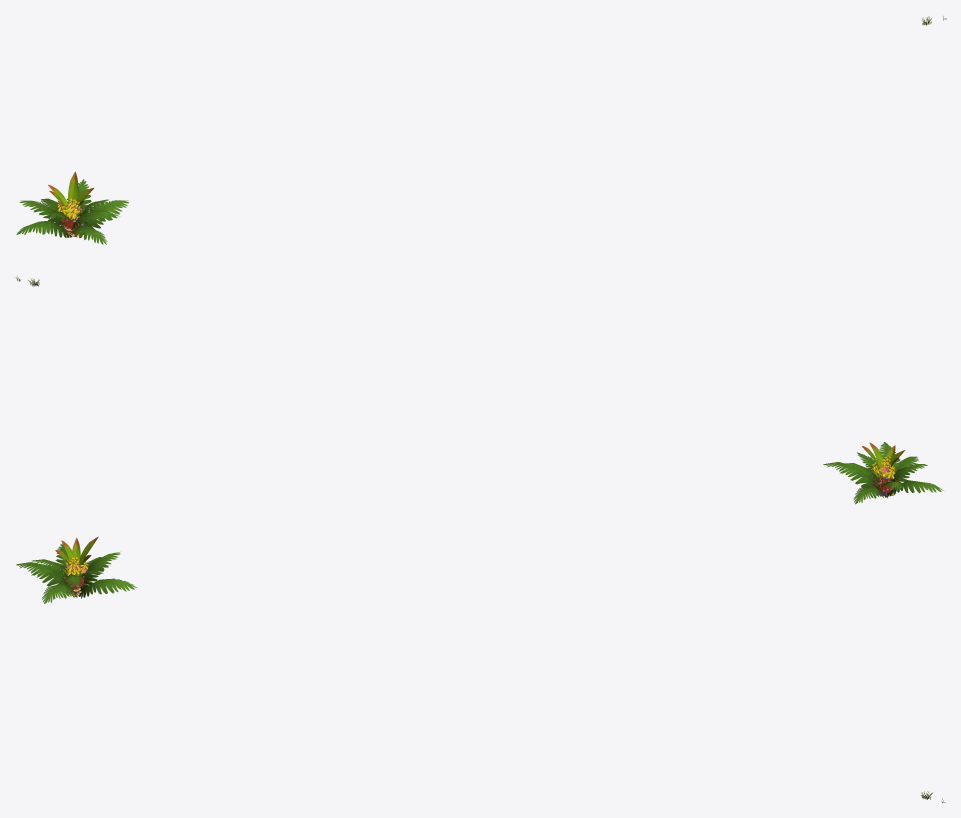
Rendered from plants_lod.glb.
3 renders of one model, top to bottom at view 1: azimuth 30°, elevation 25°; view 2: azimuth 150°, elevation 25°; view 3: azimuth 330°, elevation 25°, orthographic.
Parts seen in each view (by area): view 1: Fern_1, Plant_1_Big; view 2: Fern_1; view 3: Fern_1, Plant_1_Big.
Boxes of the visible parts, bbox=[...] form: Fern_1: bbox=[16, 179, 128, 244]; Plant_1_Big: bbox=[48, 171, 93, 221]; Fern_1: bbox=[823, 442, 943, 504]; Fern_1: bbox=[16, 543, 137, 603]; Plant_1_Big: bbox=[55, 537, 98, 580].
Size of the model in its own units: 69.12 by 3.95 by 8.49.
Materials: 7 (7 with a texture image).
